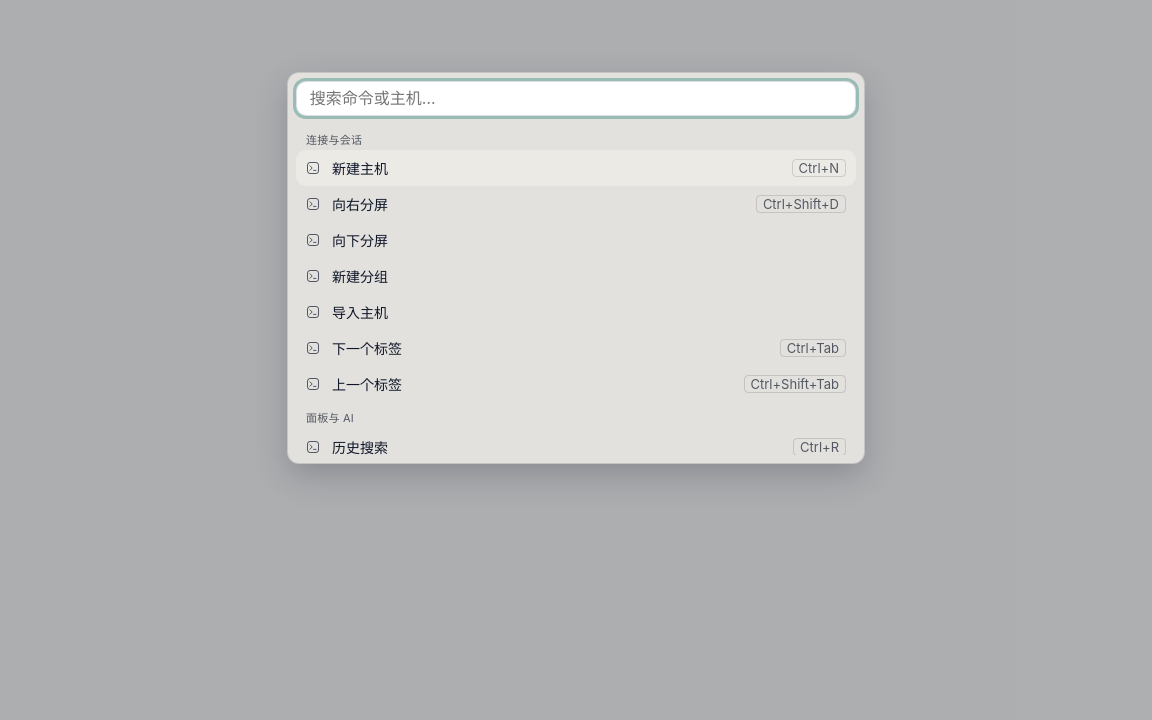
Test: 命令子组与类型图标（批次三 T2，审计 ⌘K 19/20） › 过滤态退扁平相关度排序：子组标题隐藏，命令/主机区头保持
Type "切" into the field with test id "palette-input" at coordinates (576, 98), box [296, 81, 856, 116]
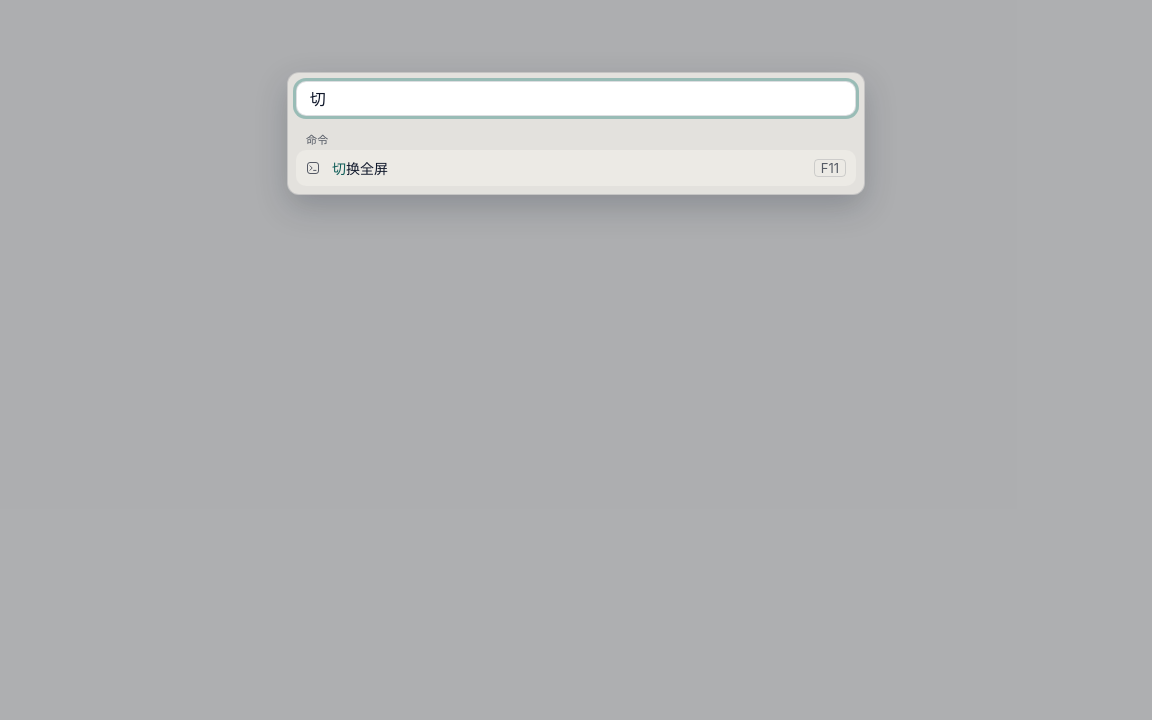
Now the list item "连接与会话" is gone
Now the list item "面板与 AI" is gone
Now the list item "命令" is shown, box [306, 133, 328, 147]
